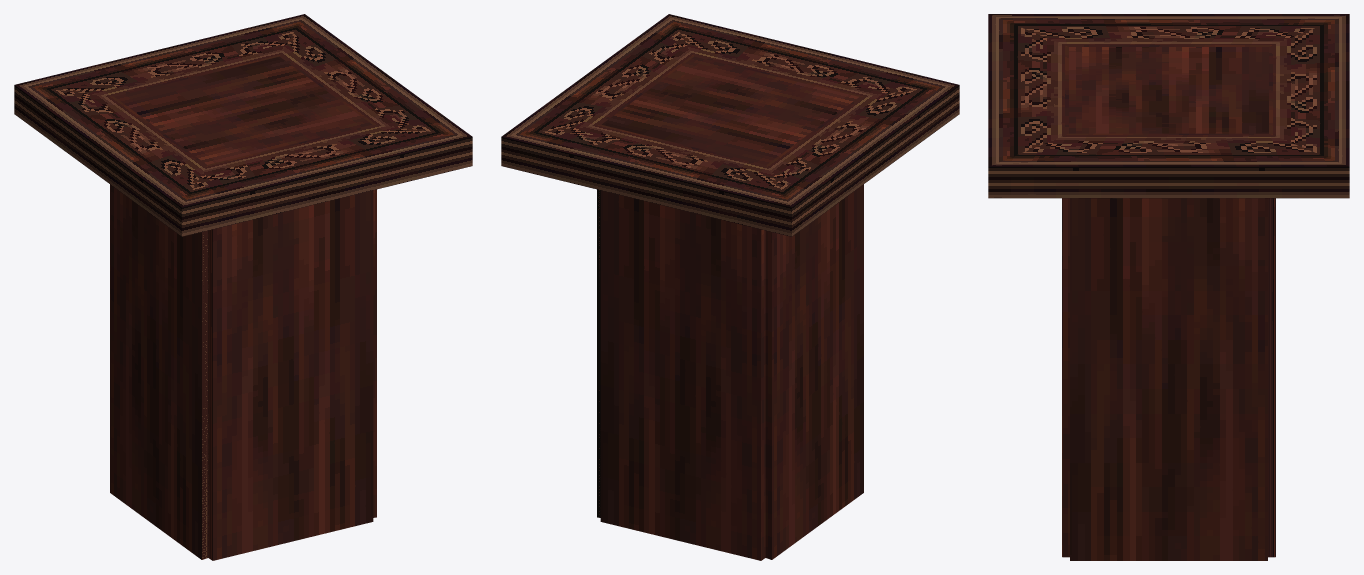
The model's file is office_rect_02.fbx.
3 views of the same model, side by side, from view 1: azimuth 30°, elevation 25°; view 2: azimuth 150°, elevation 25°; view 3: azimuth 270°, elevation 25° (orthographic). The views are drawn at different scales.
Parts seen in each view (by area): view 1: mesh_0; view 2: mesh_0; view 3: mesh_0.
Boxes of the visible parts, x1,y1,x2,y2 form: mesh_0: (14, 14, 472, 560); mesh_0: (501, 14, 959, 560); mesh_0: (988, 14, 1349, 560).
Size of the model in its own units: 46.19 by 59.89 by 46.17.
Materials: 1 (1 with a texture image).
